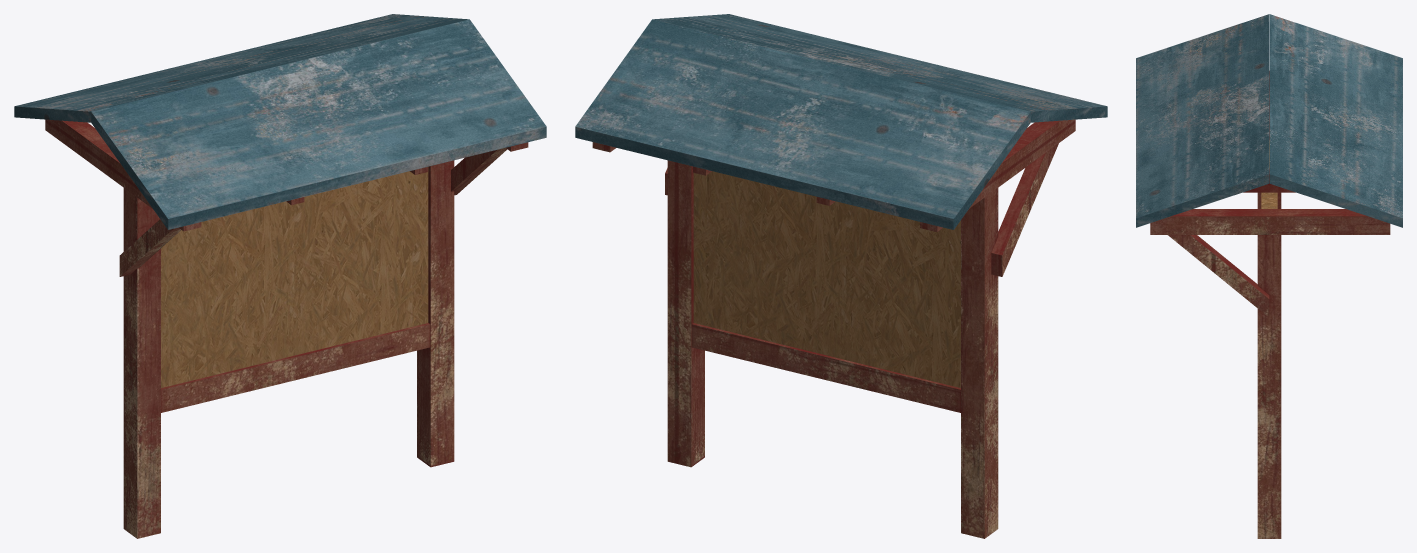
3 views of the same model, side by side, from view 1: azimuth 30°, elevation 25°; view 2: azimuth 150°, elevation 25°; view 3: azimuth 270°, elevation 25° (orthographic). The views are drawn at different scales.
Visible parts, largest first — view 1: pCube14; view 2: pCube14; view 3: pCube14.
Boxes of the visible parts, x1,y1,x2,y2 form: pCube14: (14, 14, 546, 538); pCube14: (575, 14, 1107, 538); pCube14: (1136, 14, 1402, 538).
Size of the model in its own units: 18.37 by 20.02 by 12.94.
Materials: 6 (6 with a texture image).
